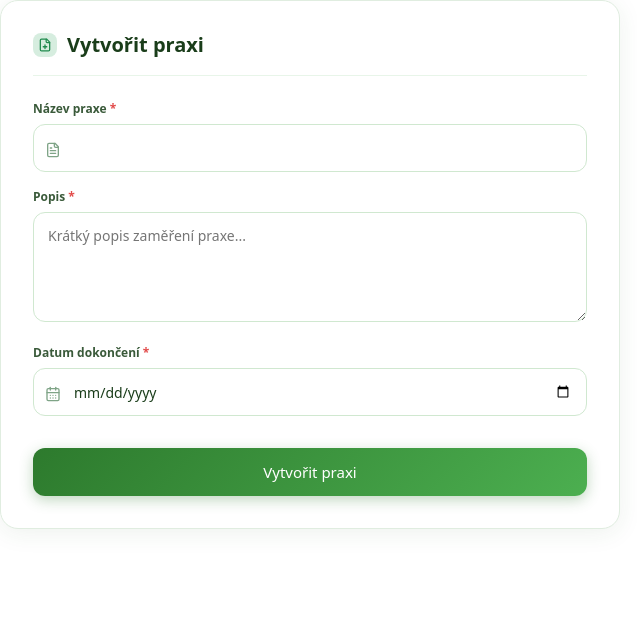
CreatePracticeView › shows validation errors for invalid form and does not submit
Step 1. Click the button "Vytvořit praxi" → (310,472), box [33,448,587,496]
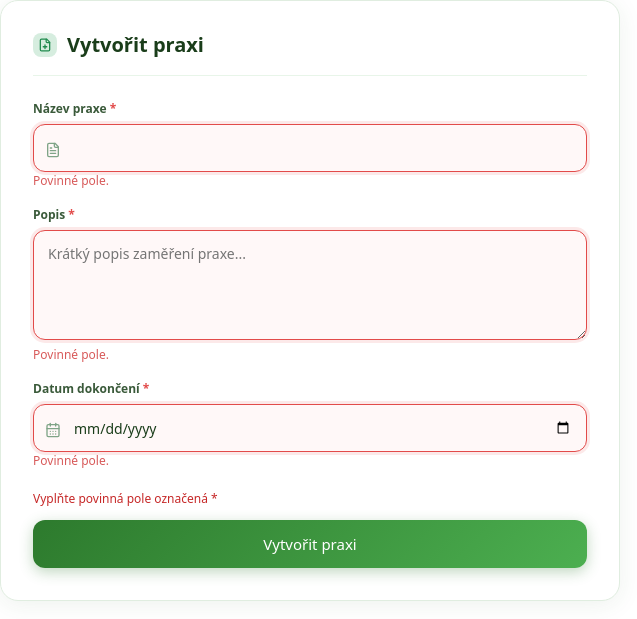
Expected: the text "Povinné pole." is shown 3 times, [33,172,109,189]; [33,346,109,363]; [33,452,109,469]
Expected: the text "Vyplňte povinná pole označená *" is shown, [33,490,218,508]
